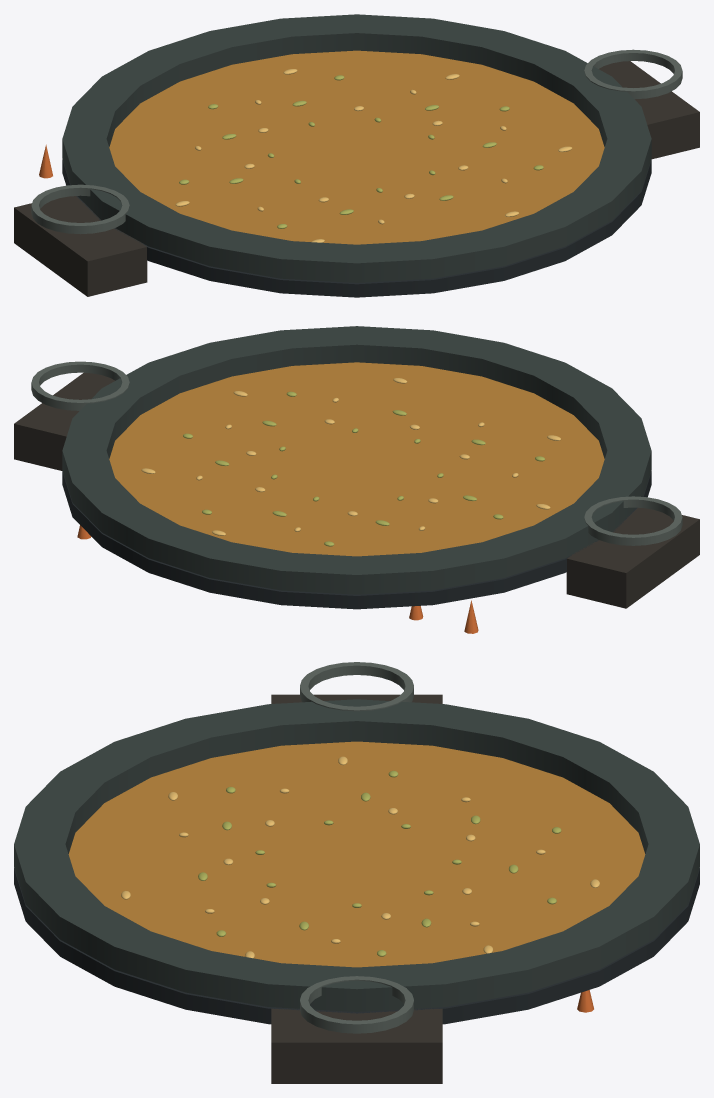
The model's file is zone_02.obj.
3 views of the same model, one above another, from view 1: azimuth 30°, elevation 25°; view 2: azimuth 150°, elevation 25°; view 3: azimuth 270°, elevation 25° (orthographic). The views are drawn at different scales.
Bounding box in the file's own units: 30 × 2.58 × 24.
